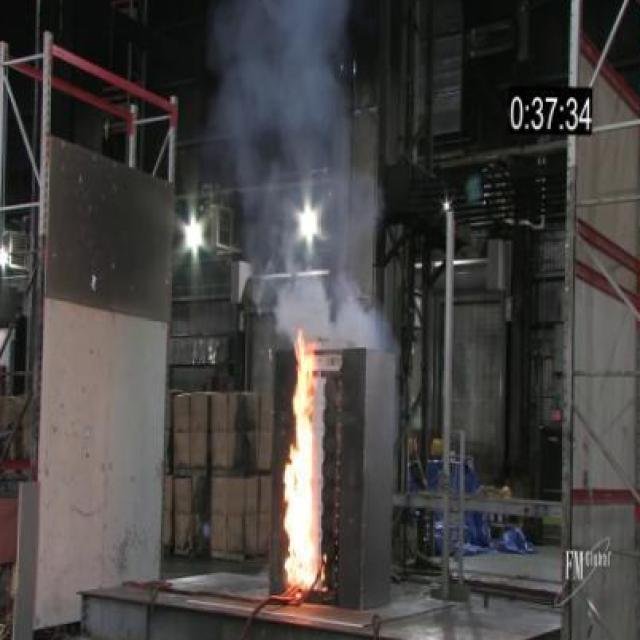fire: (205, 0, 352, 260), (272, 269, 390, 338)
smoke: (278, 340, 332, 596)
